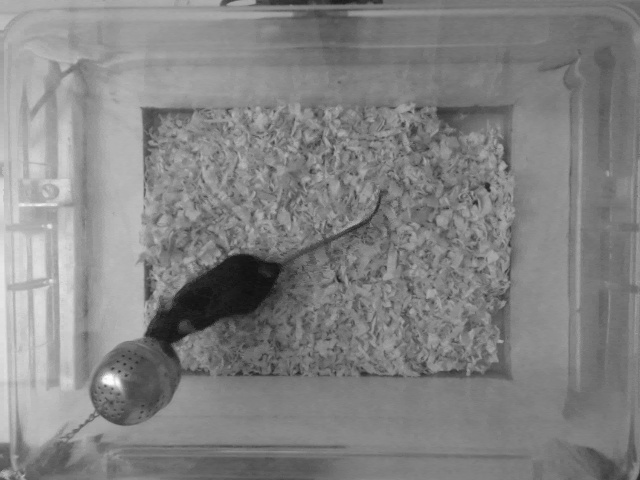mice: (148, 187, 391, 352)
